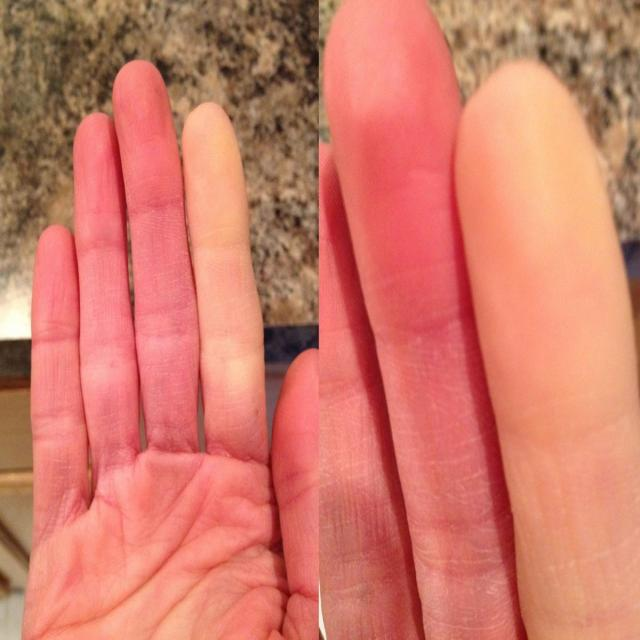raynauds: (443, 23, 640, 620), (174, 97, 277, 424)
